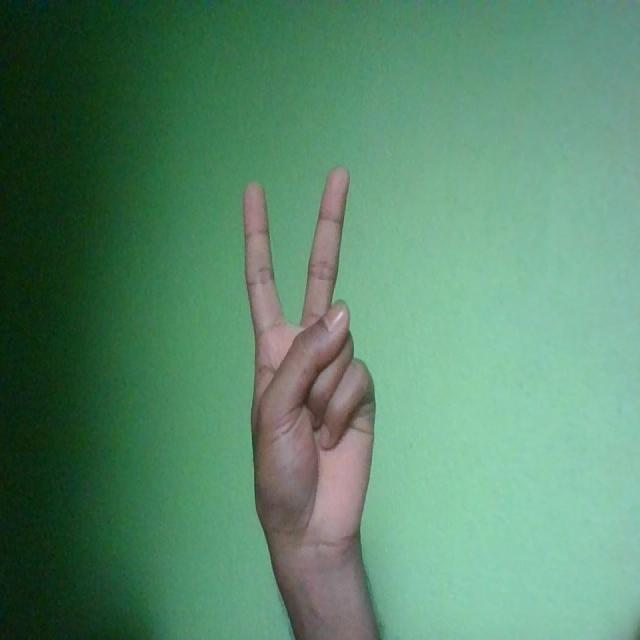Fist: (242, 165, 376, 557)
